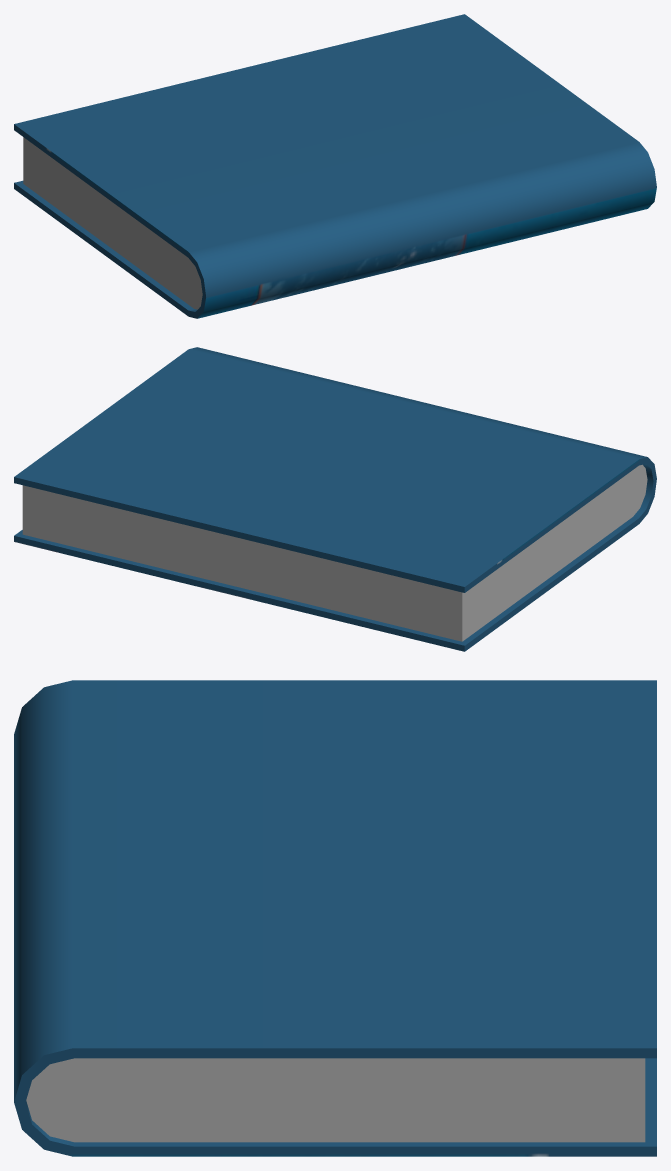
The model's file is SM_Book_7.fbx.
The picture shows the model from 3 angles, top to bottom: view 1: azimuth 30°, elevation 25°; view 2: azimuth 150°, elevation 25°; view 3: azimuth 270°, elevation 25°; orthographic projection. The views are drawn at different scales.
Parts seen in each view (by area): view 1: SM_Book_7_LOD0; view 2: SM_Book_7_LOD0; view 3: SM_Book_7_LOD0.
Part boxes in pixels (x1=…): SM_Book_7_LOD0: x1=14, y1=14, x2=656, y2=318; SM_Book_7_LOD0: x1=14, y1=347, x2=656, y2=651; SM_Book_7_LOD0: x1=14, y1=680, x2=656, y2=1156.
Size of the model in its own units: 23.34 by 17.24 by 3.21.
1 material, 1 textured.
